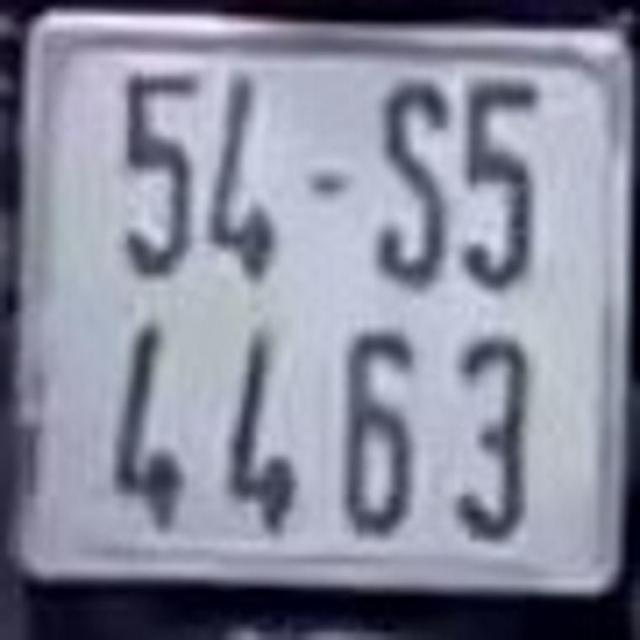3: (456, 326, 532, 538)
4: (214, 323, 302, 535), (109, 320, 188, 530), (208, 71, 276, 278)
5: (456, 64, 540, 289), (116, 66, 198, 271)
6: (340, 322, 414, 540)
S: (377, 68, 450, 292)
